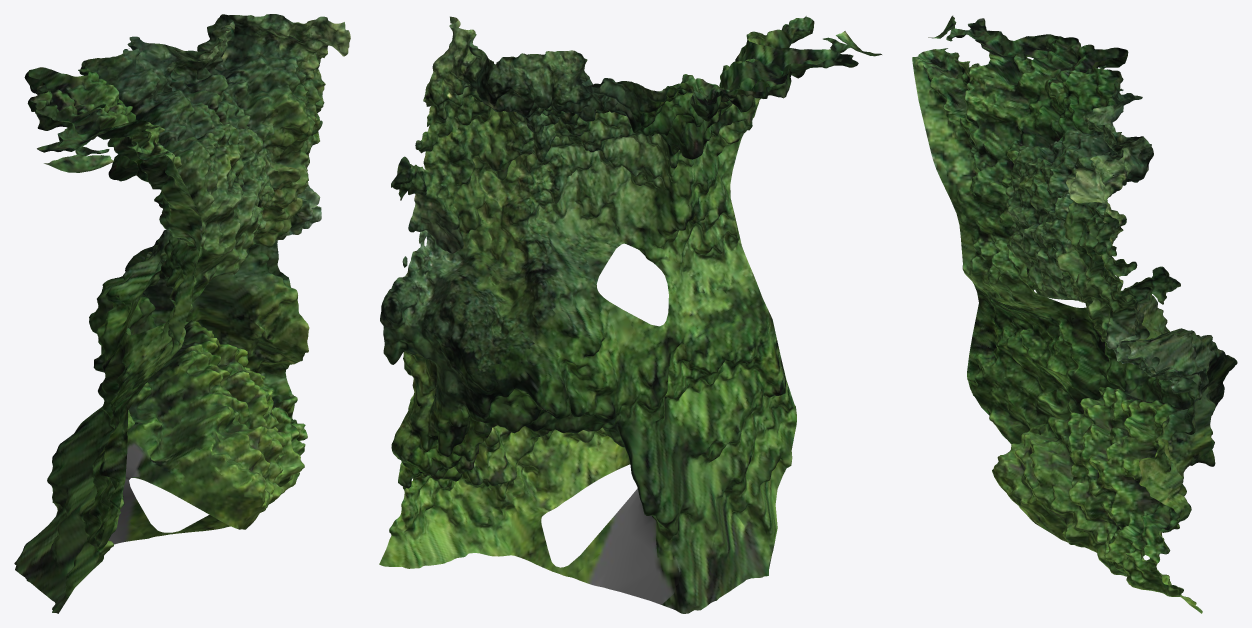
File: Tile_+002_+009.fbx
The picture shows the model from 3 angles, left to right: view 1: azimuth 30°, elevation 25°; view 2: azimuth 150°, elevation 25°; view 3: azimuth 270°, elevation 25°; orthographic projection. The views are drawn at different scales.
Visible parts, largest first — view 1: DefaultName; view 2: DefaultName; view 3: DefaultName.
Boxes of the visible parts, x1,y1,x2,y2 form: DefaultName: (14, 14, 350, 613); DefaultName: (379, 16, 881, 613); DefaultName: (912, 15, 1237, 613).
Size of the model in its own units: 17.37 by 22.54 by 15.04.
